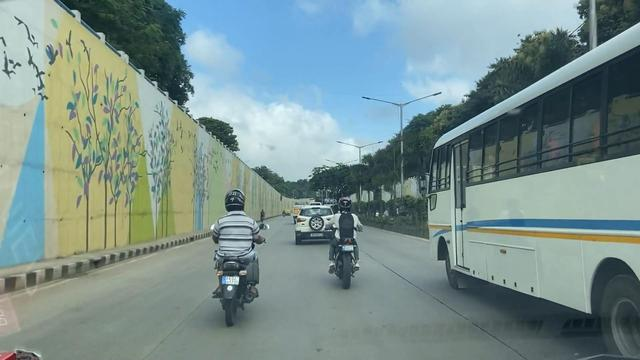HMV: (424, 44, 640, 315)
LMV: (218, 200, 261, 323), (326, 200, 363, 293), (297, 205, 334, 245)
